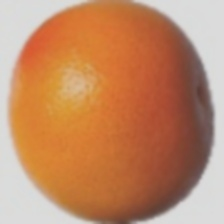grapes: (36, 22, 199, 160)
